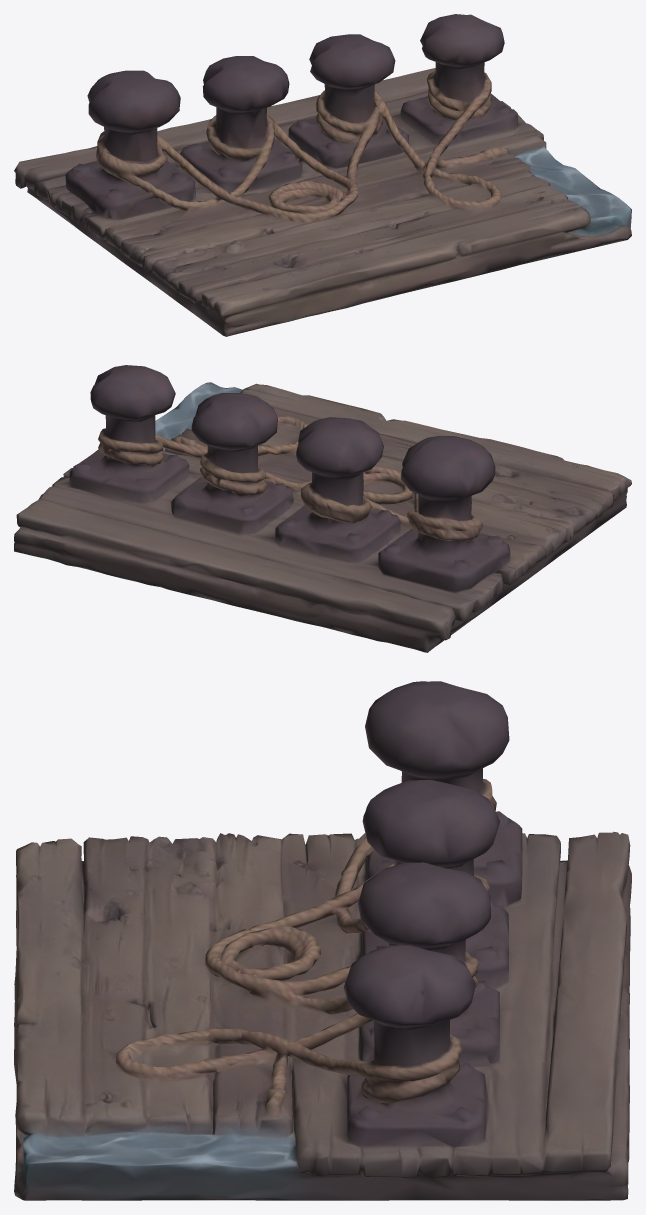
Rendered from waterfront_bollards.glb.
3 views of the same model, one above another, from view 1: azimuth 30°, elevation 25°; view 2: azimuth 150°, elevation 25°; view 3: azimuth 270°, elevation 25° (orthographic). The views are drawn at different scales.
Parts seen in each view (by area): view 1: tripo_node_4790a24a-7813-4e60-b8c4-21e71ab0d41a; view 2: tripo_node_4790a24a-7813-4e60-b8c4-21e71ab0d41a; view 3: tripo_node_4790a24a-7813-4e60-b8c4-21e71ab0d41a.
Boxes of the visible parts, bbox=[...] form: tripo_node_4790a24a-7813-4e60-b8c4-21e71ab0d41a: bbox=[14, 14, 631, 336]; tripo_node_4790a24a-7813-4e60-b8c4-21e71ab0d41a: bbox=[14, 365, 631, 652]; tripo_node_4790a24a-7813-4e60-b8c4-21e71ab0d41a: bbox=[14, 681, 631, 1200].
Size of the model in its own units: 1 by 0.3293 by 0.7972.
1 material, 1 textured.
